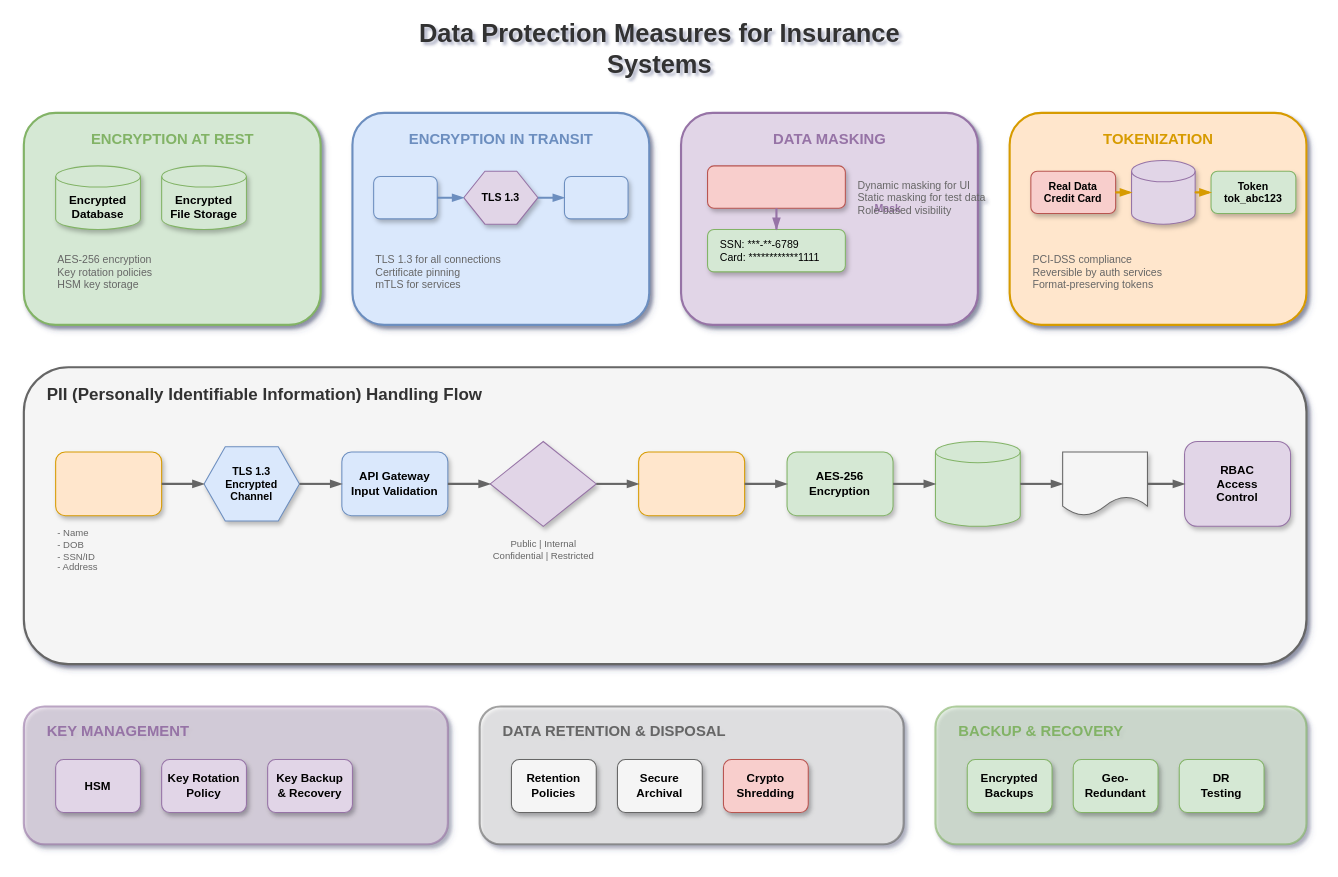
This 1338x877 diagram has some shape labels left out. The shapes that lost their labels are listed below. From the top down, each one's centre as x and y in pixels, then its label:
pixel 406 198: Client
pixel 596 198: Server
pixel 777 188: SSN: 123-45-6789 Card: 4111111111111111
pixel 1164 193: Token Vault
pixel 109 485: Customer Submits PII
pixel 544 485: Data Classification
pixel 692 485: Tokenize Sensitive Fields
pixel 978 485: Secure Storage
pixel 1105 485: Audit Log
